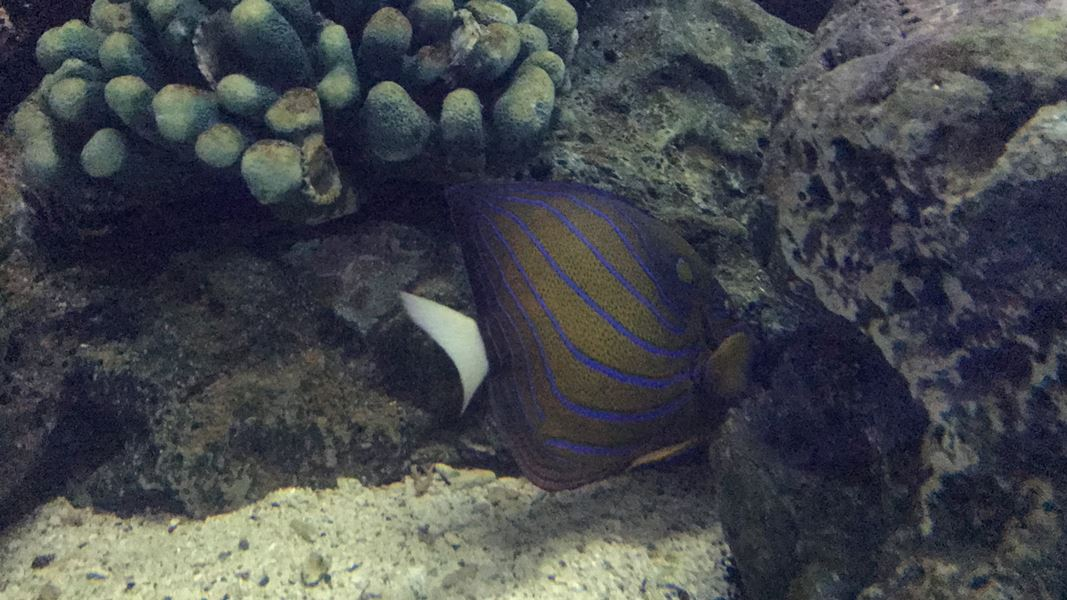Blue ring angelfish: (387, 160, 787, 515)
